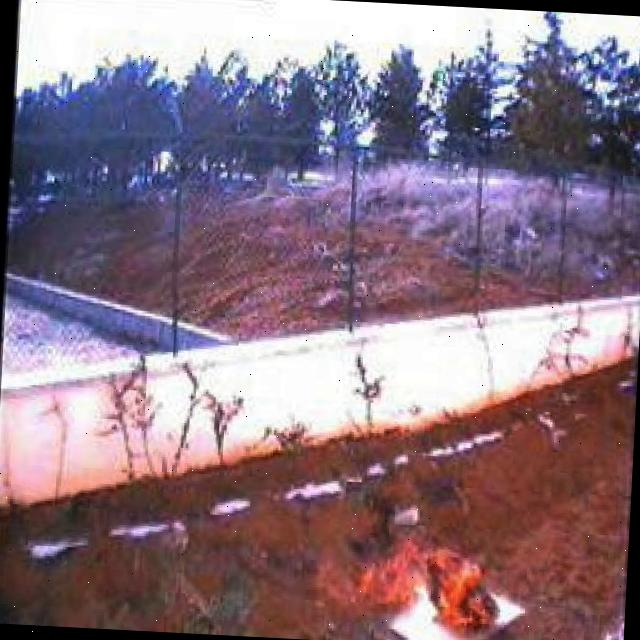fire: (337, 527, 506, 640)
